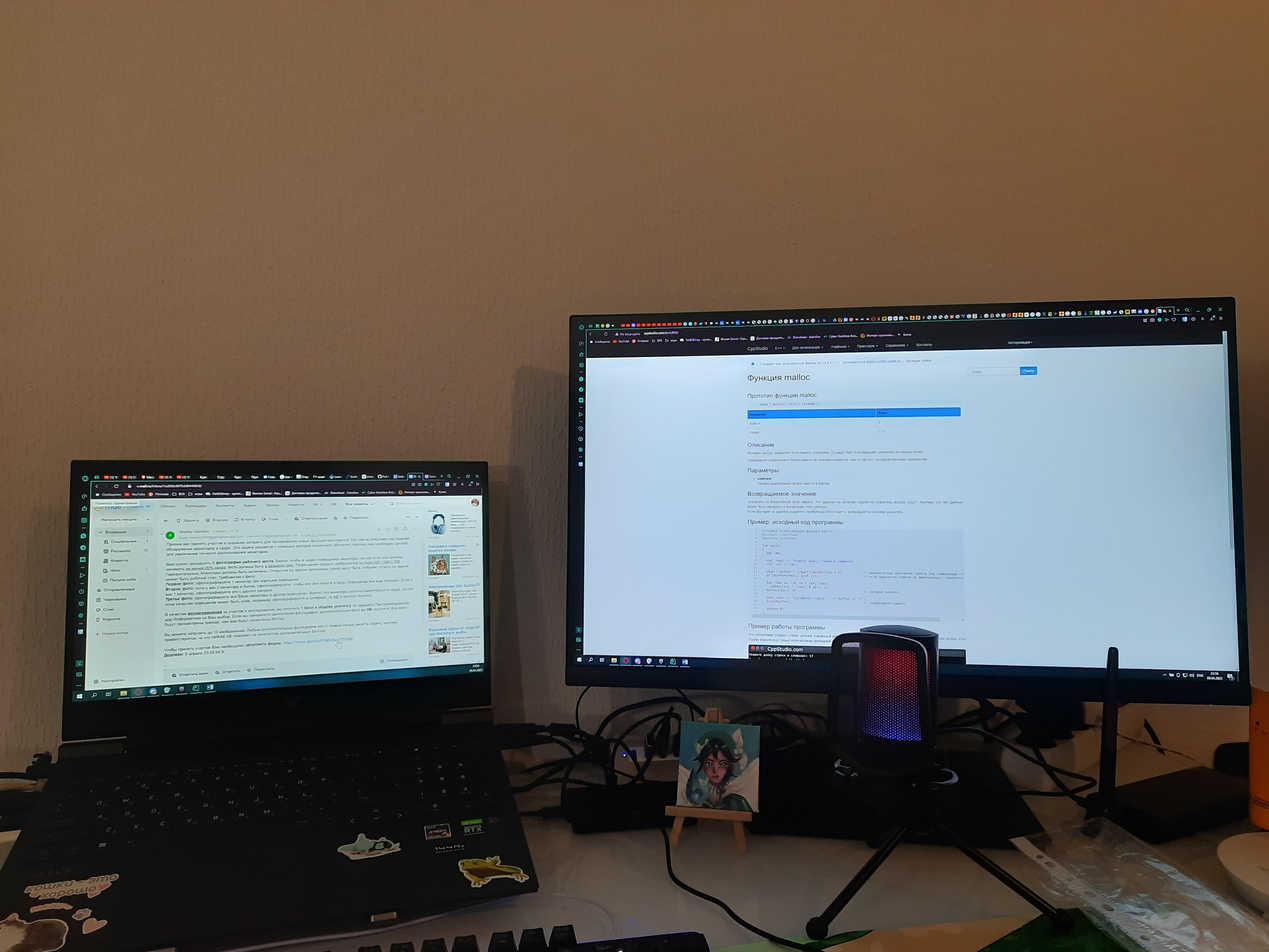monitor: (555, 292, 1256, 712), (51, 446, 504, 746)
